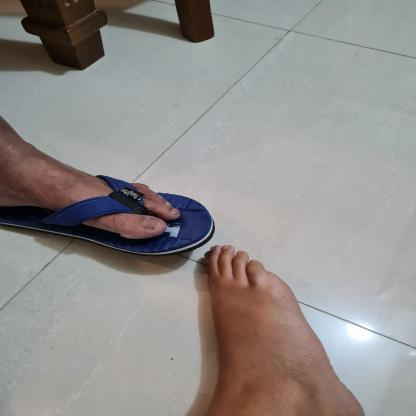leg: (179, 239, 378, 416), (0, 96, 193, 252)
